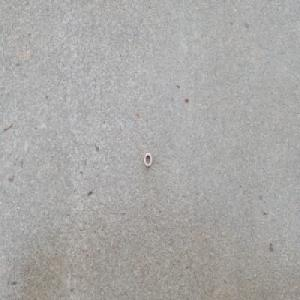Nut: (143, 152, 152, 168)
